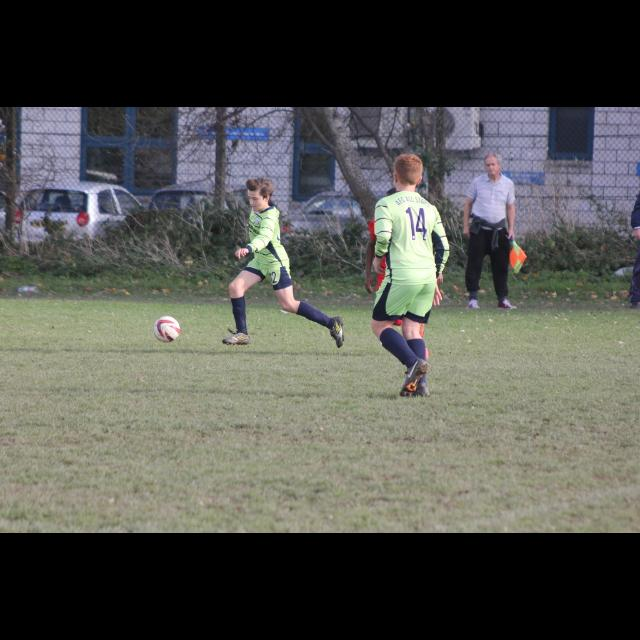Football: (152, 313, 180, 341)
